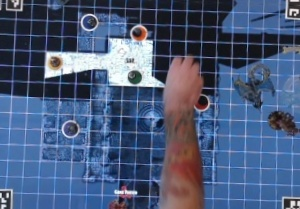blue: (77, 10, 101, 33)
green: (123, 68, 142, 83)
orange: (127, 21, 149, 44)
red: (191, 90, 210, 112)
violet: (58, 117, 80, 139)
yellow: (46, 52, 66, 69)
